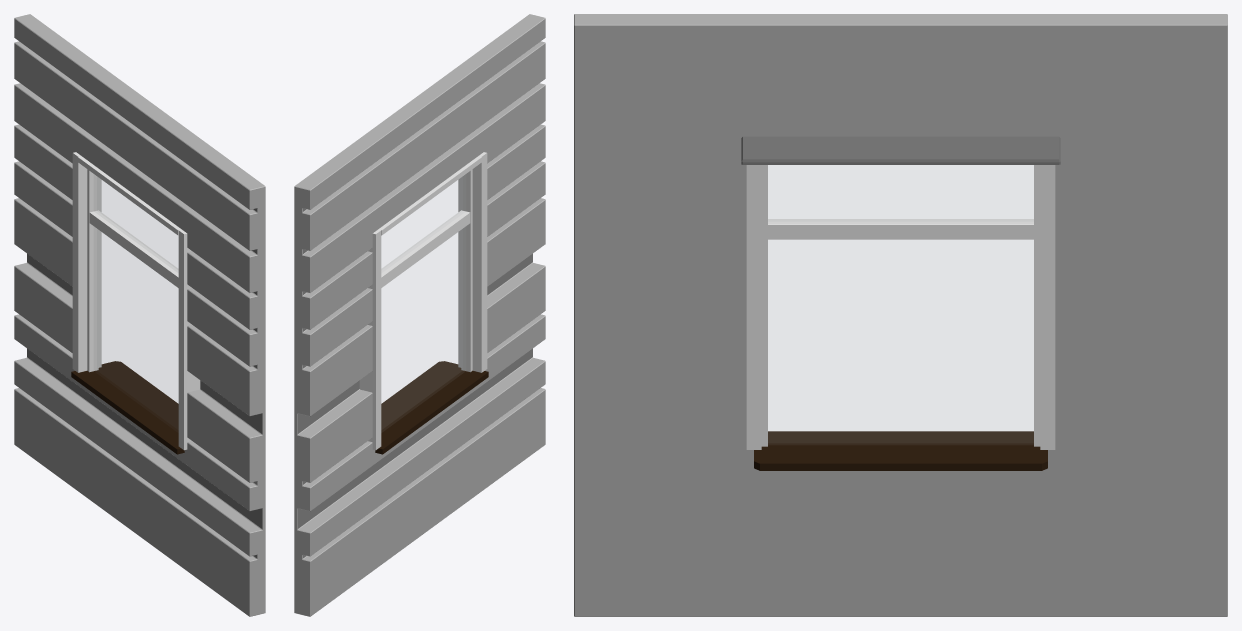
File: wall_window.glb
The picture shows the model from 3 angles, left to right: view 1: azimuth 30°, elevation 25°; view 2: azimuth 150°, elevation 25°; view 3: azimuth 270°, elevation 25°; orthographic projection. The views are drawn at different scales.
Visible parts, largest first — view 1: Wall_Window, Window; view 2: Wall_Window, Window; view 3: Wall_Window, Window.
Part boxes in pixels (x1,y1,x2,y2): Wall_Window: [14, 14, 265, 616]; Window: [97, 177, 177, 428]; Wall_Window: [294, 14, 545, 616]; Window: [382, 177, 462, 428]; Wall_Window: [574, 14, 1227, 616]; Window: [768, 165, 1033, 442].
Size of the model in its own units: 0.4679 by 4 by 4.
Materials: 2 (1 with a texture image).
